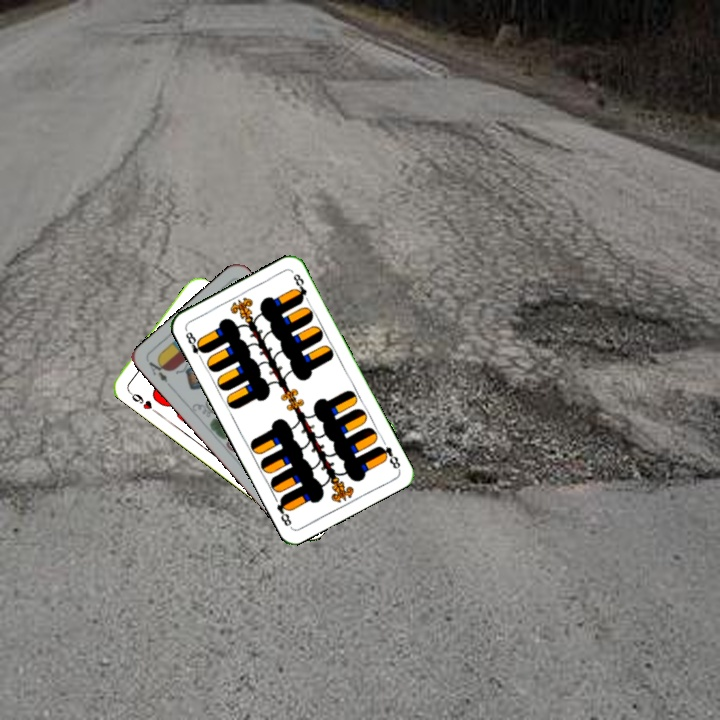E8: (182, 328, 209, 363), (374, 442, 403, 472)
EA: (144, 355, 175, 391)
H9: (124, 386, 159, 415)
